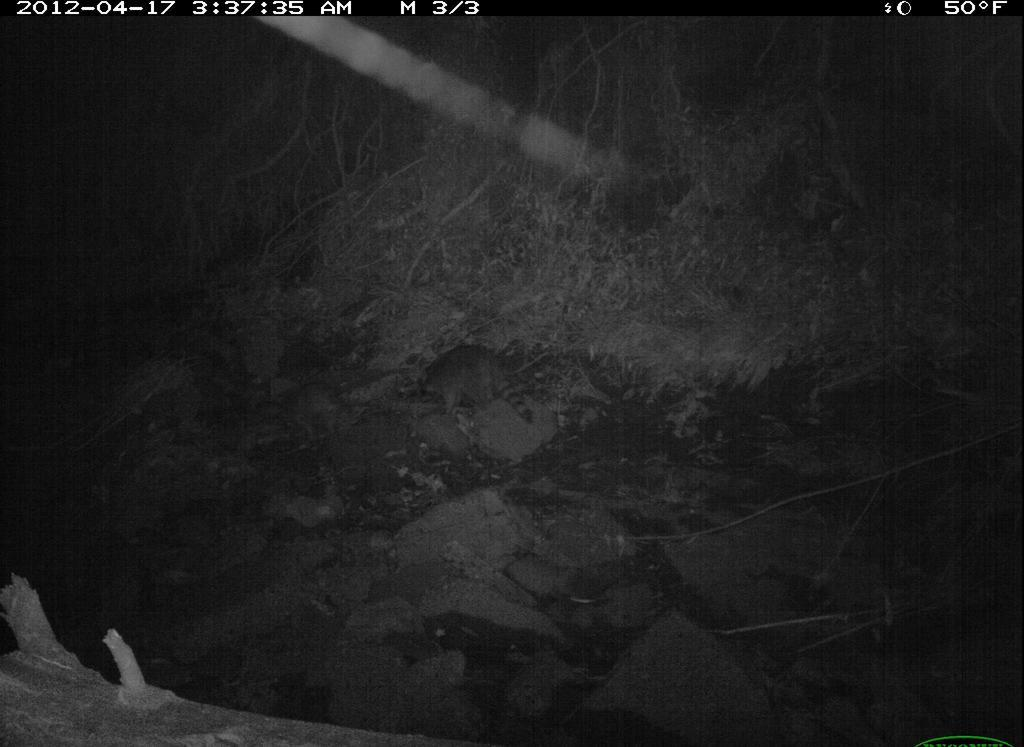raccoon: (402, 336, 545, 437)
